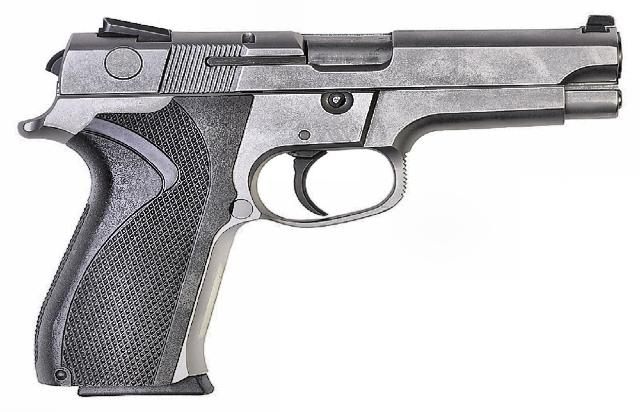pistol: (12, 8, 624, 396)
